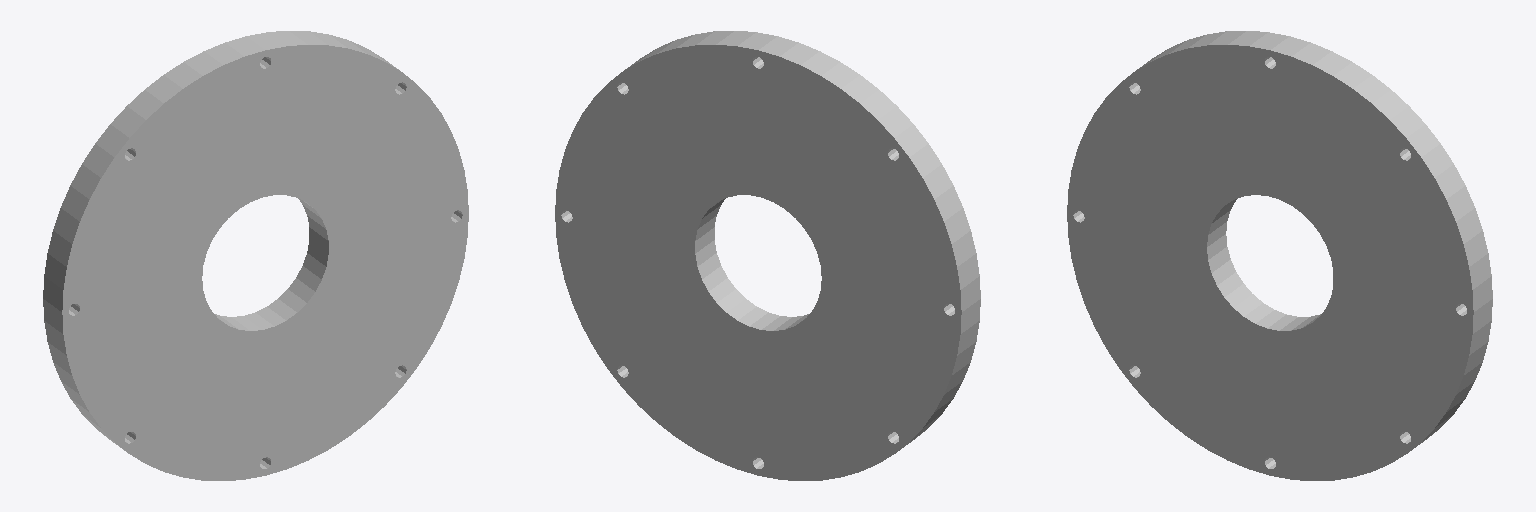
The model's file is cover motor belakang.obj.
3 renders of one model, left to right at view 1: azimuth 30°, elevation 25°; view 2: azimuth 150°, elevation 25°; view 3: azimuth 330°, elevation 25°, orthographic.
Visible parts, largest first — view 1: assembly_full_cover_motor_belakang.002; view 2: assembly_full_cover_motor_belakang.002; view 3: assembly_full_cover_motor_belakang.002.
Part boxes in pixels (x1,y1,x2,y2): assembly_full_cover_motor_belakang.002: (43,31,468,480); assembly_full_cover_motor_belakang.002: (555,31,980,480); assembly_full_cover_motor_belakang.002: (1067,31,1492,480).
Size of the model in its own units: 41.19 by 41.19 by 3.39.